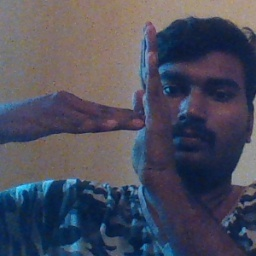Z: (68, 15, 184, 188)
